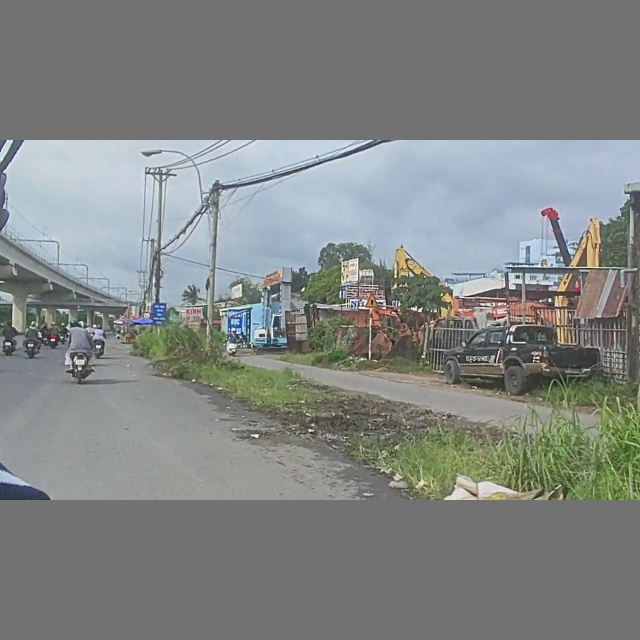W.207: (364, 294, 381, 307)
